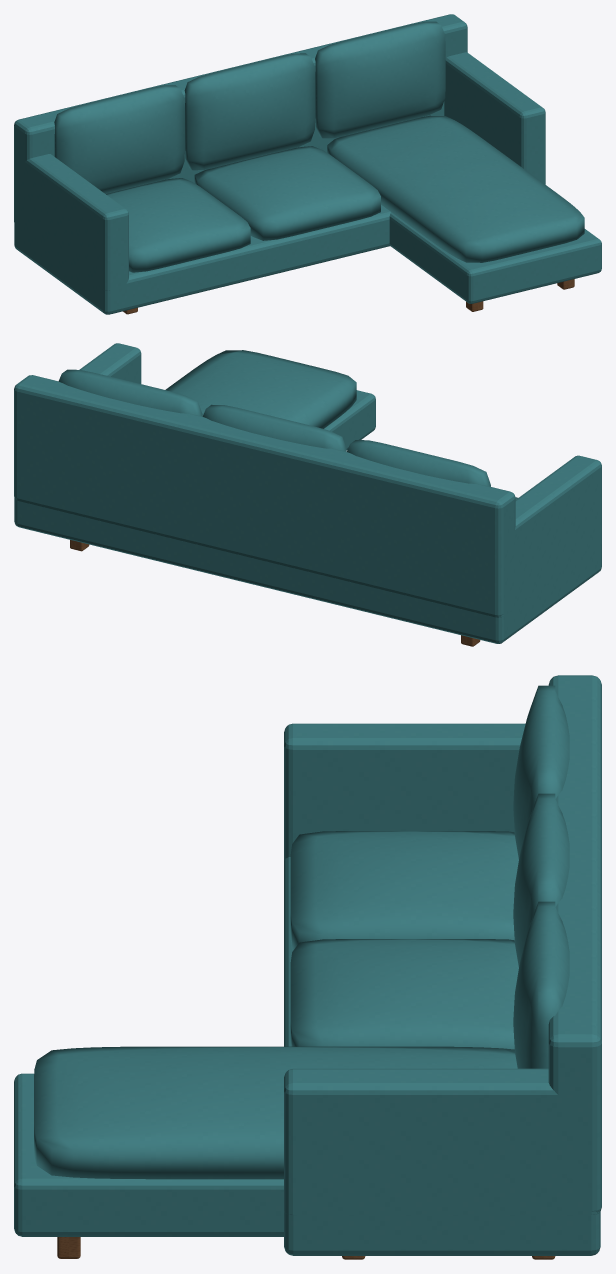
3 renders of one model, top to bottom at view 1: azimuth 30°, elevation 25°; view 2: azimuth 150°, elevation 25°; view 3: azimuth 270°, elevation 25°, orthographic. The views are drawn at different scales.
Parts seen in each view (by area): view 1: Continuous long chaise seat, Soft separate back cushion.002, Soft separate back cushion.001, Continuous main upholstered frame, Soft separate seat cushion.001, Soft separate back cushion, Broad upholstered arm, Soft separate seat cushion, Connected chaise extension frame, Broad upholstered arm.001, Sofa back frame; view 2: Sofa back frame, Continuous main upholstered frame, Broad upholstered arm, Continuous long chaise seat, Soft separate back cushion.002, Soft separate back cushion.001, Soft separate back cushion, Broad upholstered arm.001, Connected chaise extension frame; view 3: Broad upholstered arm.001, Continuous long chaise seat, Broad upholstered arm, Soft separate seat cushion, Soft separate seat cushion.001, Sofa back frame, Connected chaise extension frame, Continuous main upholstered frame, Soft separate back cushion.002, Soft separate back cushion, Soft separate back cushion.001.
Boxes of the visible parts, box(x1,y1,x2,y2) form: Continuous long chaise seat: box(327, 115, 584, 262); Soft separate back cushion.002: box(315, 21, 445, 138); Soft separate back cushion.001: box(184, 53, 315, 170); Continuous main upholstered frame: box(14, 182, 545, 314); Soft separate seat cushion.001: box(194, 146, 380, 240); Soft separate back cushion: box(54, 85, 184, 193); Broad upholstered arm: box(14, 154, 128, 290); Soft separate seat cushion: box(106, 178, 250, 272); Connected chaise extension frame: box(389, 212, 601, 303); Broad upholstered arm.001: box(444, 52, 545, 183); Sofa back frame: box(14, 14, 467, 222); Sofa back frame: box(14, 375, 515, 617); Continuous main upholstered frame: box(14, 499, 601, 643); Broad upholstered arm: box(498, 455, 601, 617); Continuous long chaise seat: box(165, 350, 356, 428); Soft separate back cushion.002: box(58, 369, 202, 416); Soft separate back cushion.001: box(202, 404, 346, 451); Soft separate back cushion: box(347, 440, 490, 486); Broad upholstered arm.001: box(14, 343, 141, 499); Connected chaise extension frame: box(324, 390, 375, 449); Broad upholstered arm.001: box(284, 1068, 599, 1214); Continuous long chaise seat: box(34, 1046, 517, 1179); Broad upholstered arm: box(284, 723, 525, 860); Soft separate seat cushion: box(290, 831, 518, 950); Soft separate seat cushion.001: box(290, 939, 518, 1049); Sofa back frame: box(548, 675, 601, 1212); Connected chaise extension frame: box(14, 1073, 283, 1236); Continuous main upholstered frame: box(284, 857, 600, 1255); Soft separate back cushion.002: box(513, 901, 569, 1068); Soft separate back cushion: box(513, 685, 569, 858); Soft separate back cushion.001: box(513, 793, 569, 966).
Bounding box in the file's own units: 2.6 × 0.9 × 1.76.
Materials: 2 (2 with a texture image).
